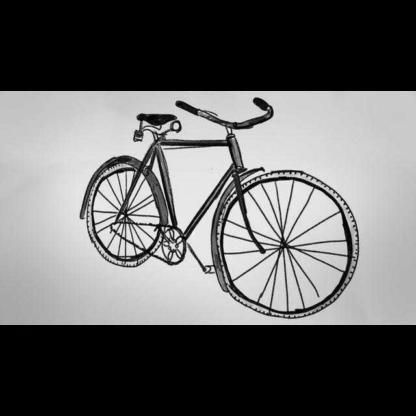Bicycle: (63, 90, 363, 323)
